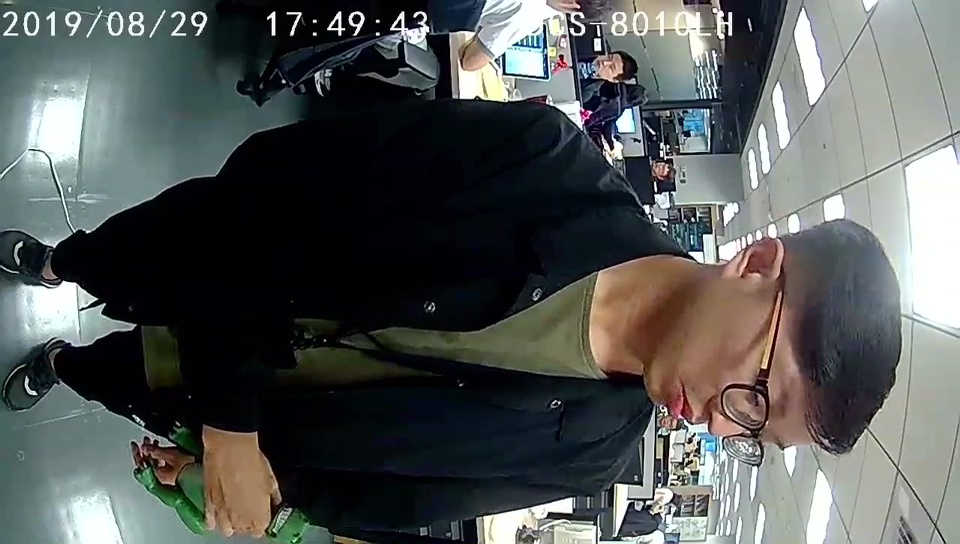rex: (132, 416, 309, 544)
